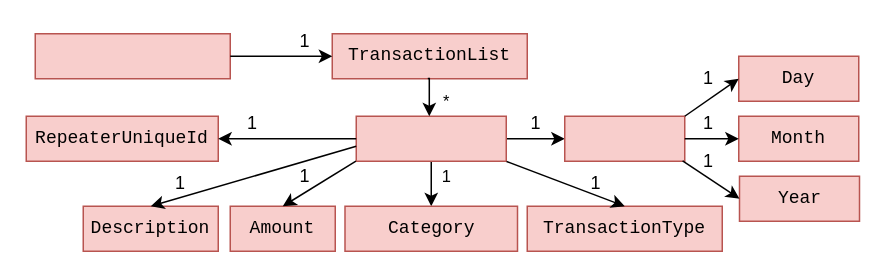
This 887x278 diagram has some shape labels left out. Here are the shapes that lost their labels. From the top down, the centre of each, then its label:
the point at 132,55: FundBook
the point at 430,138: Transaction
the point at 624,138: Date
